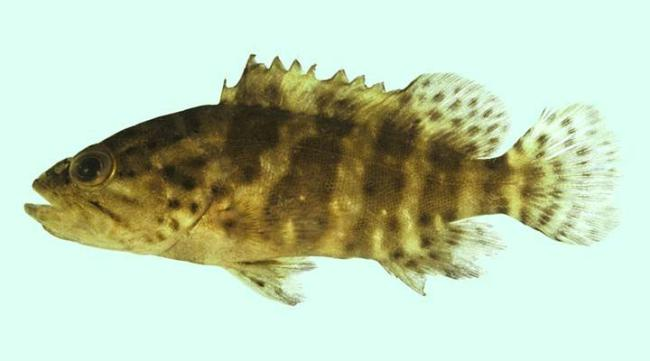fish: (24, 54, 623, 306)
